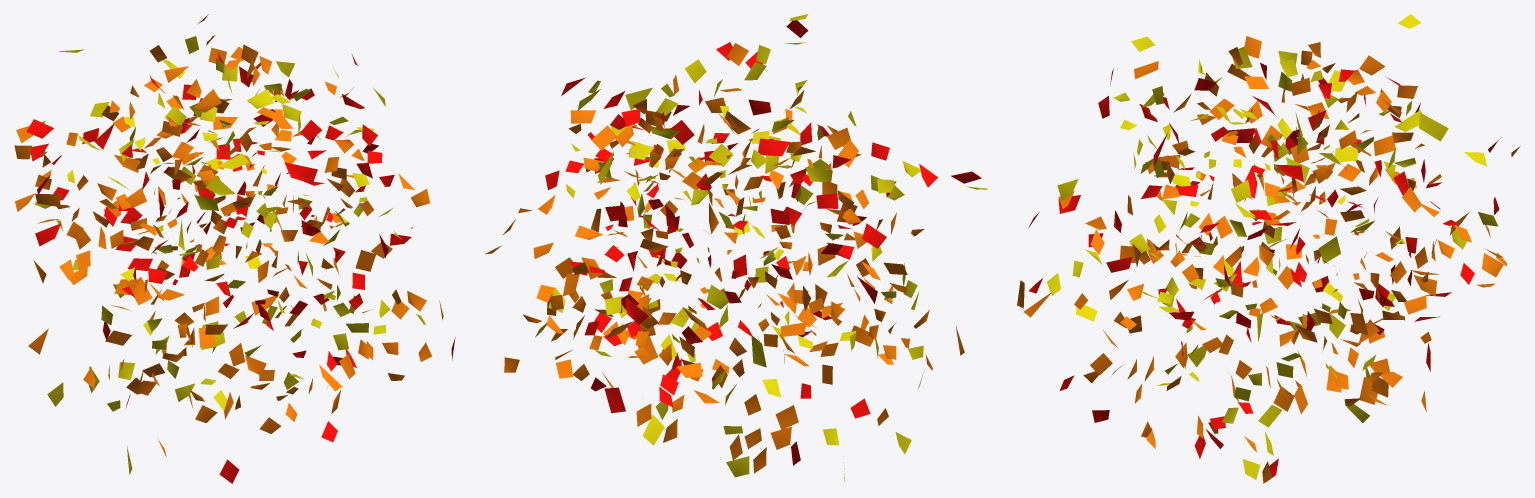
Rendered from leafsThin1.fbx.
3 renders of one model, left to right at view 1: azimuth 30°, elevation 25°; view 2: azimuth 150°, elevation 25°; view 3: azimuth 270°, elevation 25°, orthographic. The views are drawn at different scales.
Visible parts, largest first — view 1: leafsThin1_LOD0; view 2: leafsThin1_LOD0; view 3: leafsThin1_LOD0.
Part boxes in pixels (x1,y1,x2,y2): leafsThin1_LOD0: (14,14,455,483); leafsThin1_LOD0: (485,14,987,481); leafsThin1_LOD0: (1017,14,1520,483).
Size of what is drawn, in the model's own units: 954 by 911 by 963.
